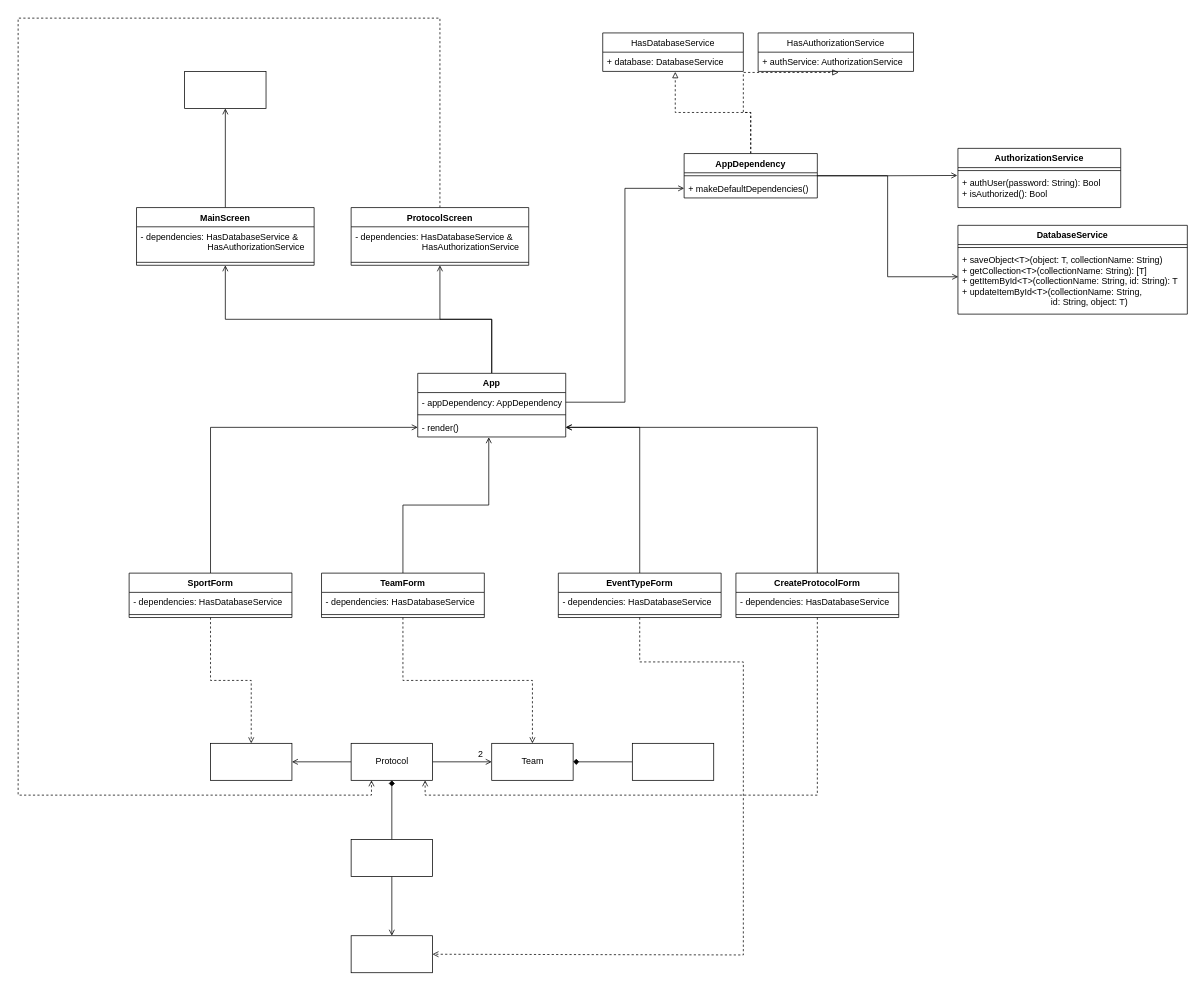
Image size: 1200x986. Some labels were removed from this diagram. The centre of each missing label's shape, as x and y in pixels:
"EventsMatrix" belongs at (225,89).
"EventType" belongs at (391,954).
"GameEvent" belongs at (391,858).
"Player" belongs at (673,761).
"Sport" belongs at (251,761).
